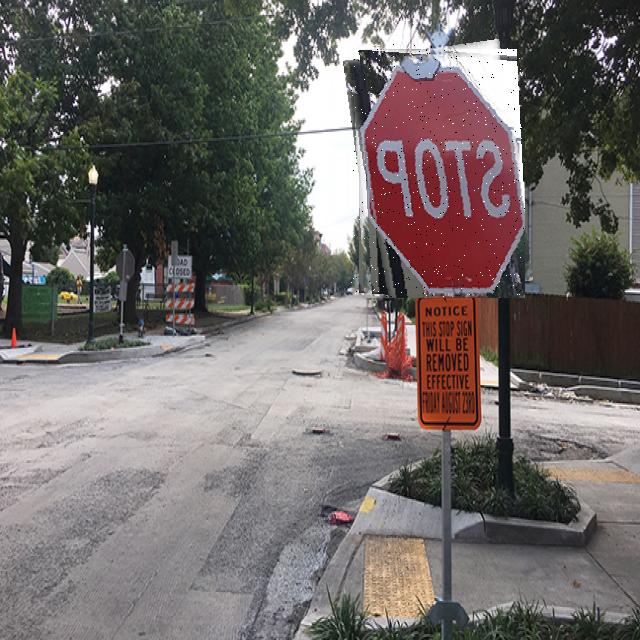stop: (351, 44, 525, 298)
